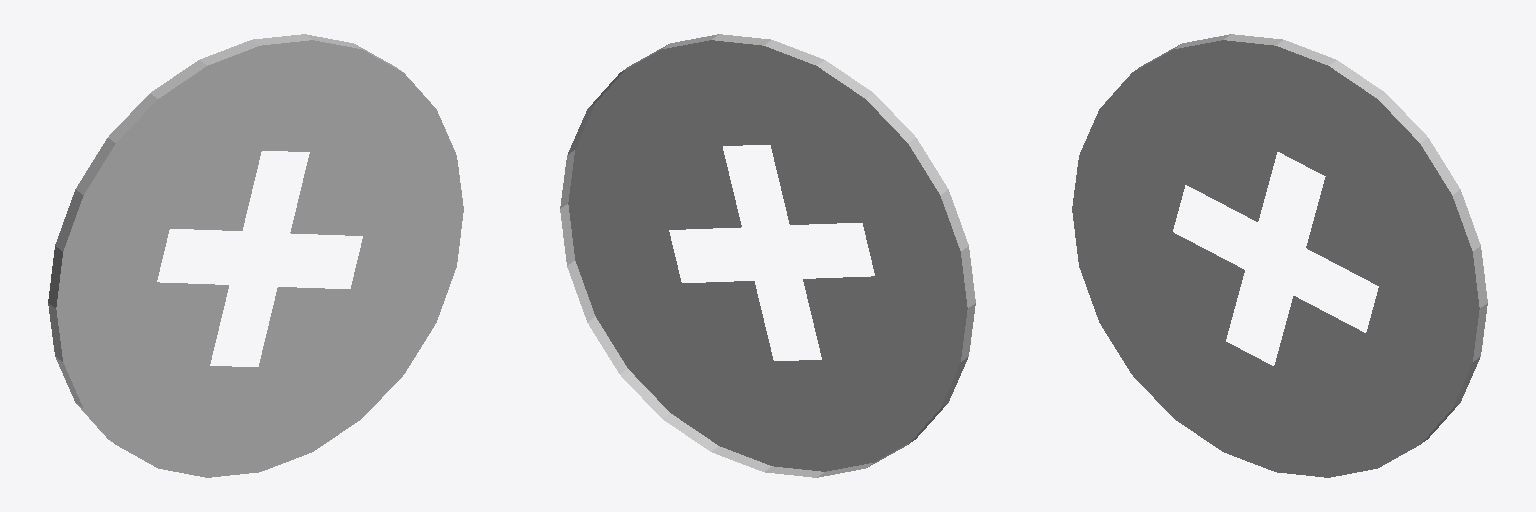
Rendered from original-61.obj.
3 renders of one model, left to right at view 1: azimuth 30°, elevation 25°; view 2: azimuth 150°, elevation 25°; view 3: azimuth 330°, elevation 25°, orthographic.
Parts seen in each view (by area): view 1: #ID197; view 2: #ID197; view 3: #ID197.
Boxes of the visible parts, x1=… form: #ID197: x1=48, y1=34, x2=463, y2=477; #ID197: x1=560, y1=34, x2=975, y2=477; #ID197: x1=1072, y1=34, x2=1487, y2=477.
Bounding box in the file's own units: 0.0266 × 0.0266 × 0.0009.